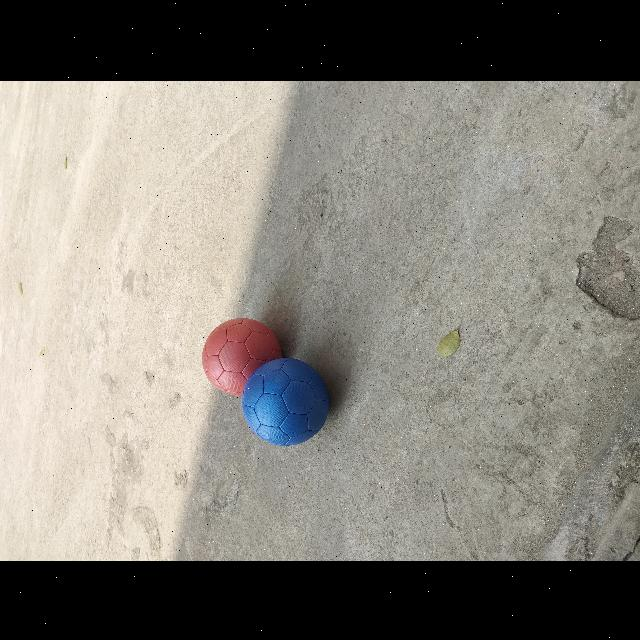B: (242, 355, 333, 446)
R: (202, 317, 283, 395)
